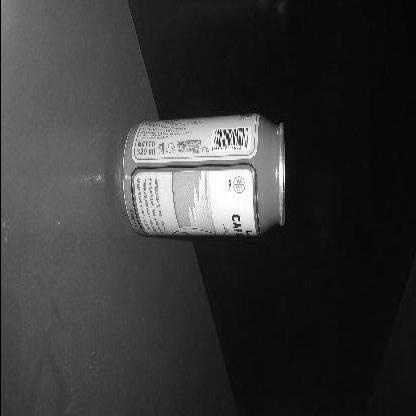alumunium_can: (118, 110, 286, 240)
